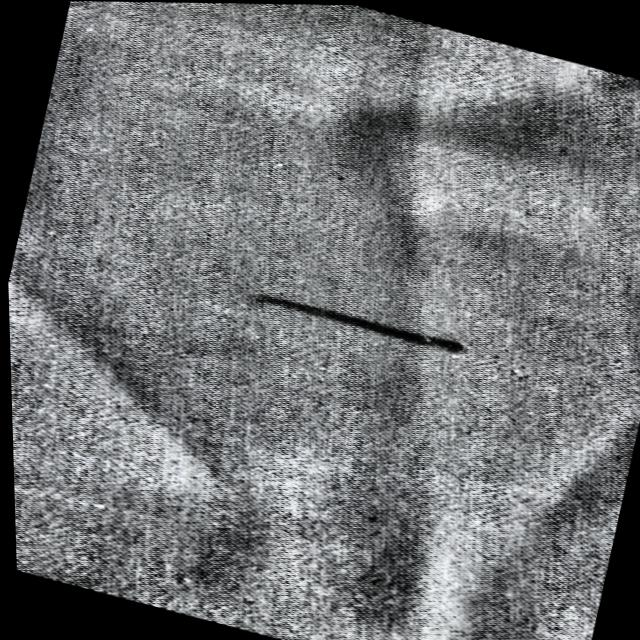Stitch: (179, 233, 495, 408)
